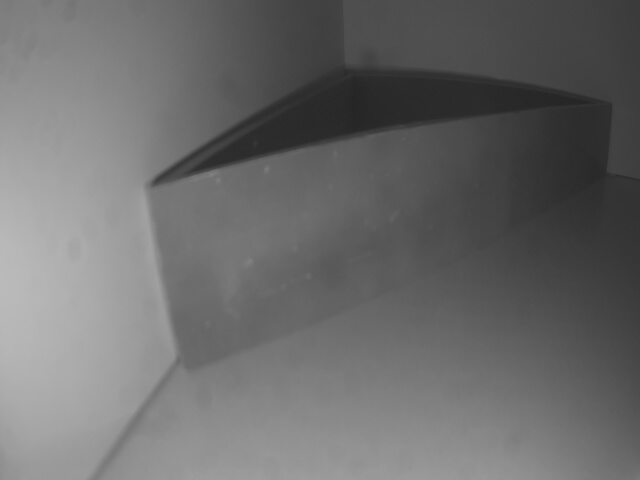Green: (145, 105, 613, 374)
